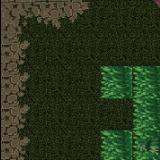Slow: (132, 66, 160, 160), (100, 66, 132, 99), (100, 130, 130, 160)
